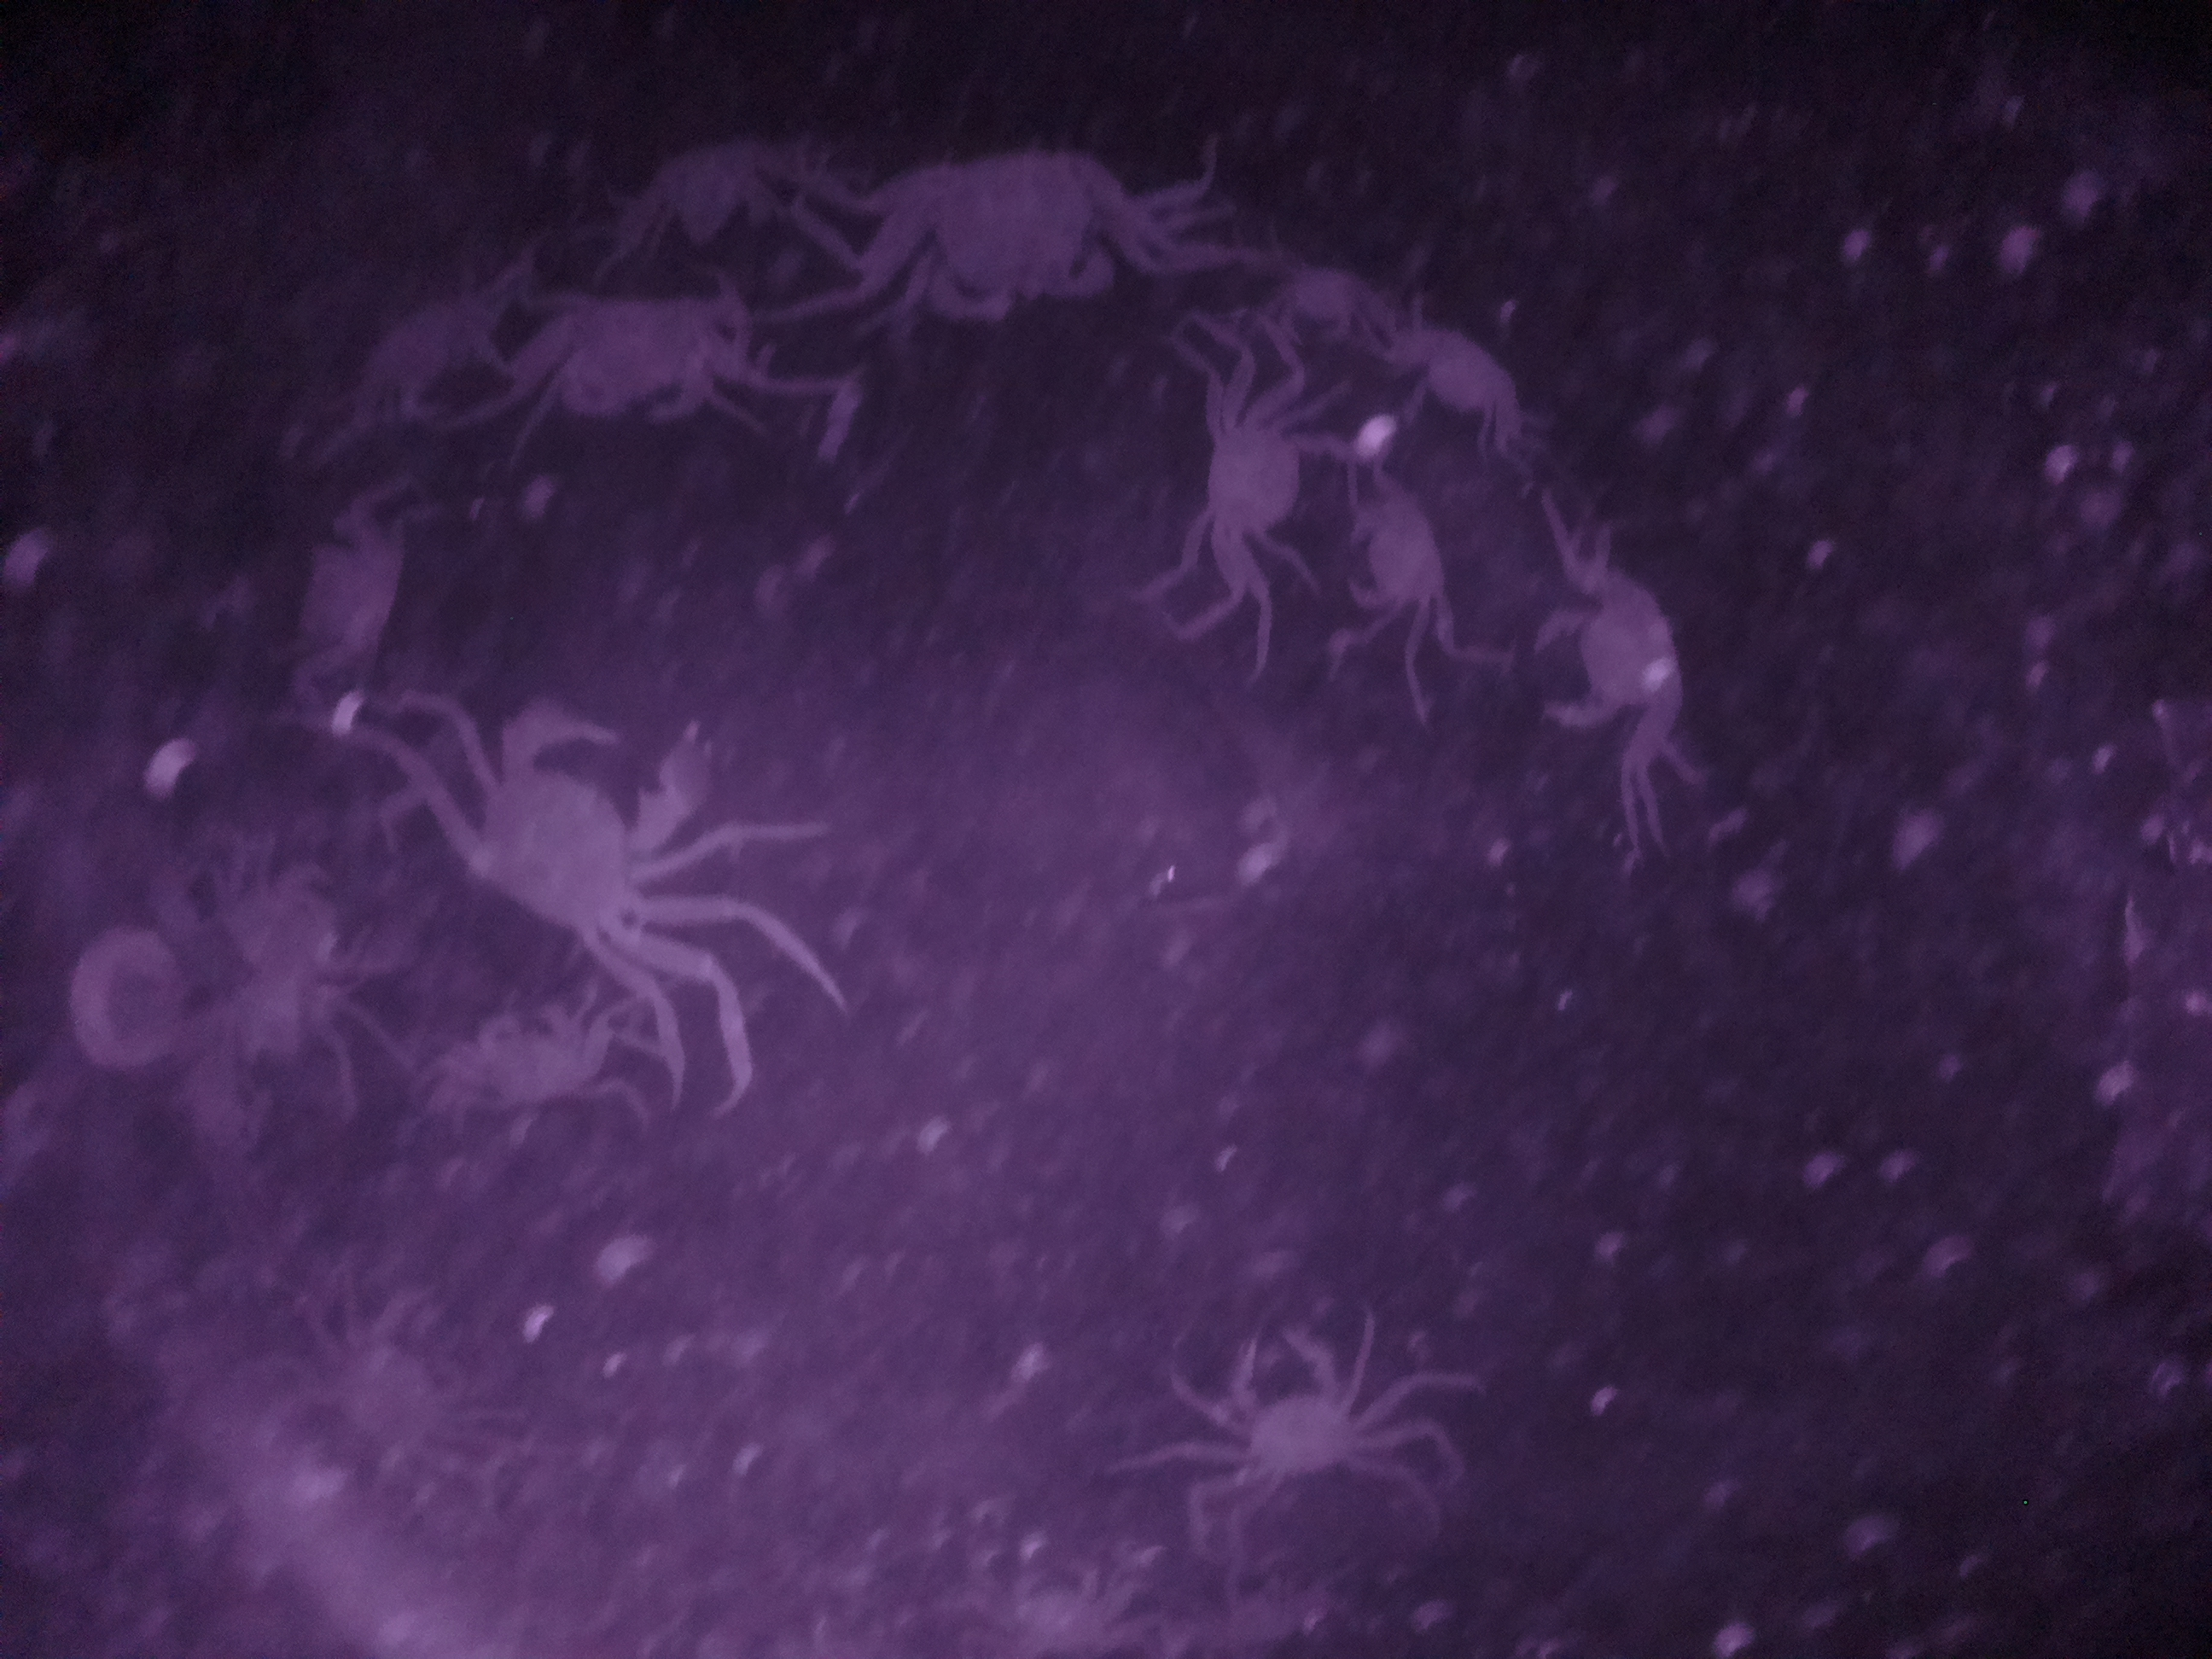Crab: (1202, 1312, 1413, 1504), (1533, 549, 1702, 777), (1176, 375, 1343, 580), (437, 990, 639, 1136), (1324, 464, 1458, 650), (1393, 307, 1548, 448)
